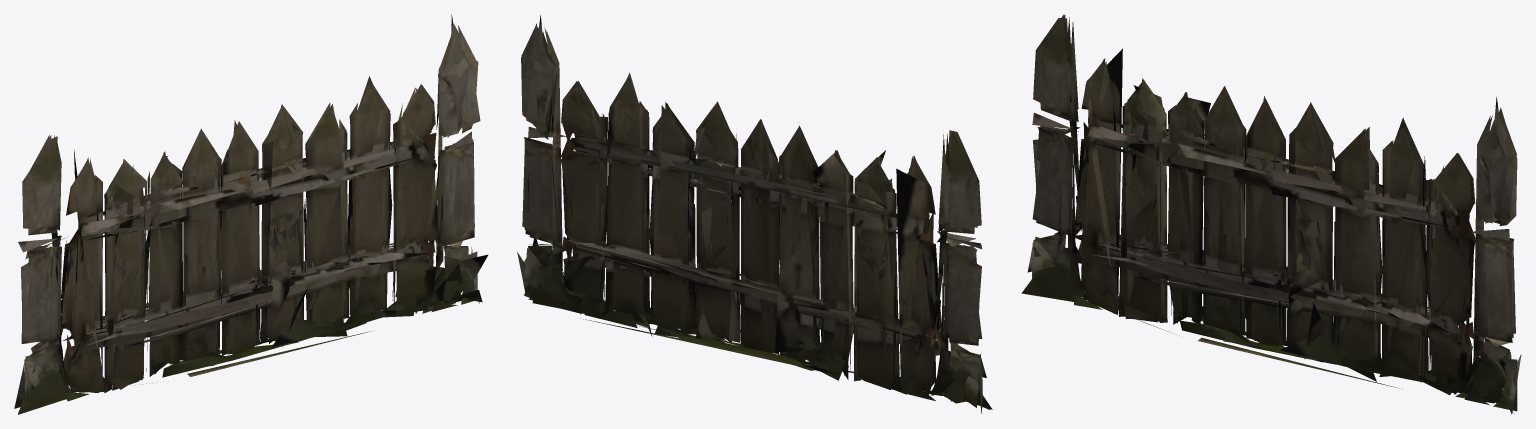
File: goblin_palisade_a_lod.glb
3 views of the same model, side by side, from view 1: azimuth 30°, elevation 25°; view 2: azimuth 150°, elevation 25°; view 3: azimuth 330°, elevation 25° (orthographic). The views are drawn at different scales.
Visible parts, largest first — view 1: goblin_palisade_a; view 2: goblin_palisade_a; view 3: goblin_palisade_a.
Boxes of the visible parts, x1,y1,x2,y2 form: goblin_palisade_a: (14,14,488,414); goblin_palisade_a: (517,15,992,413); goblin_palisade_a: (1021,14,1521,414).
Size of the model in its own units: 4.69 by 2.83 by 0.523.
Materials: 1 (1 with a texture image).
